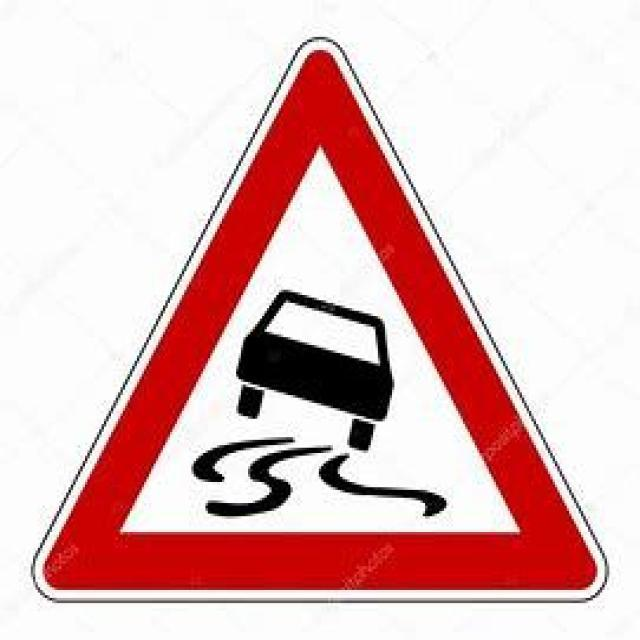slippery road: (31, 34, 611, 600)
